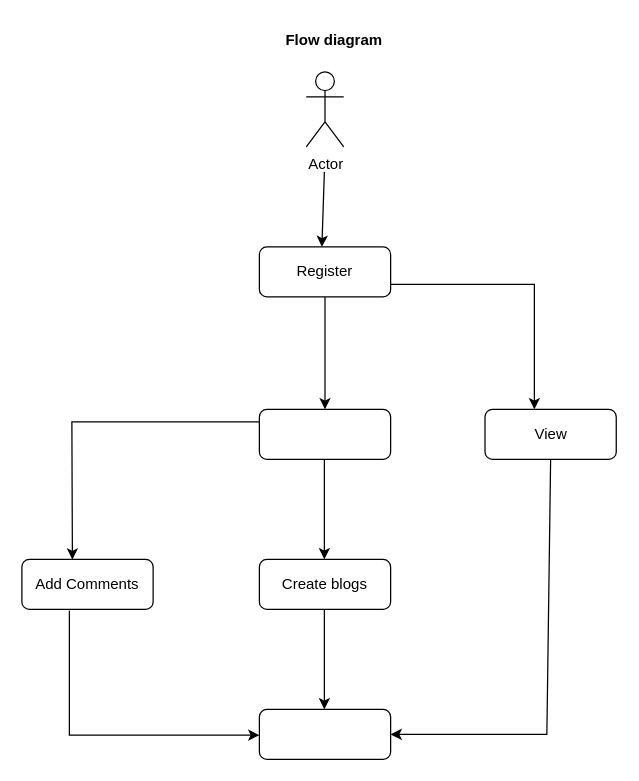
The diagram is 639 pixels wide and 781 high, and some of its shapes have lost their labels. Here are the shapes that lost their labels. From the top down, the centre of each, then its label:
point (324, 433): Login
point (324, 733): Publish blogs
